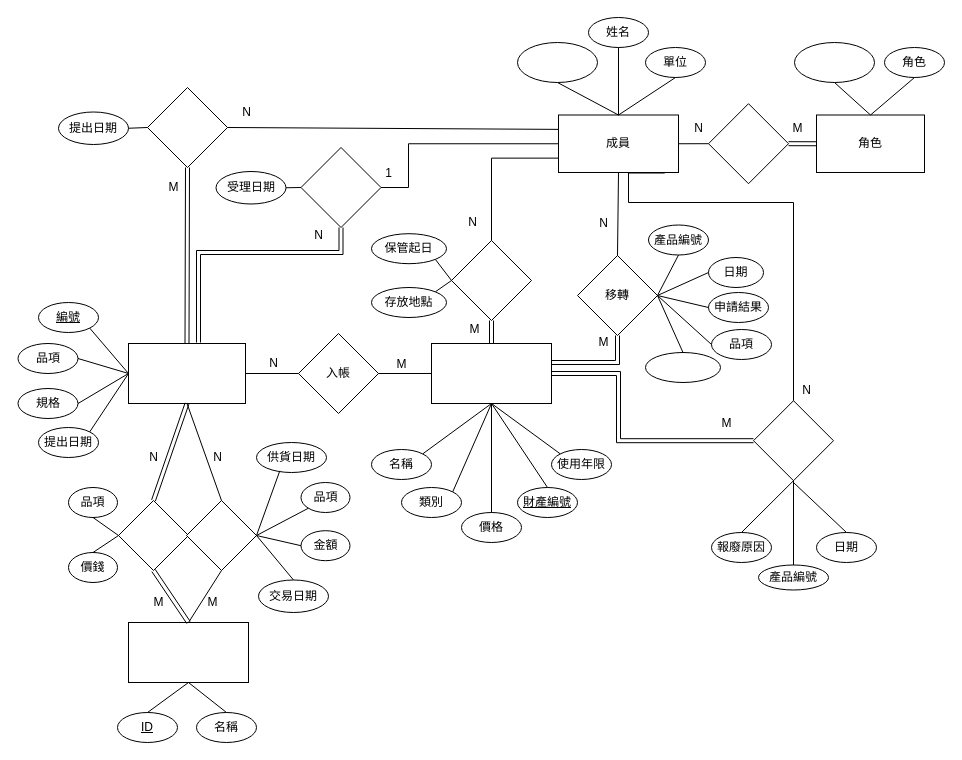
This 962x760 diagram has some shape labels left out. The box of each missing label's shape, as (x1, y1, x2, y2) in pixels:
交易: (186, 500, 256, 570)
供應商: (128, 622, 248, 682)
保管: (450, 240, 532, 320)
受理: (300, 146, 381, 228)
報價: (118, 500, 188, 570)
報廢: (752, 400, 834, 481)
學號/員工編號: (516, 42, 598, 82)
提出: (146, 86, 228, 168)
擔任: (708, 103, 788, 184)
移轉後保管人: (644, 352, 720, 382)
角色編號: (794, 42, 874, 82)
請購清單: (128, 342, 246, 404)
財物: (430, 342, 552, 404)
